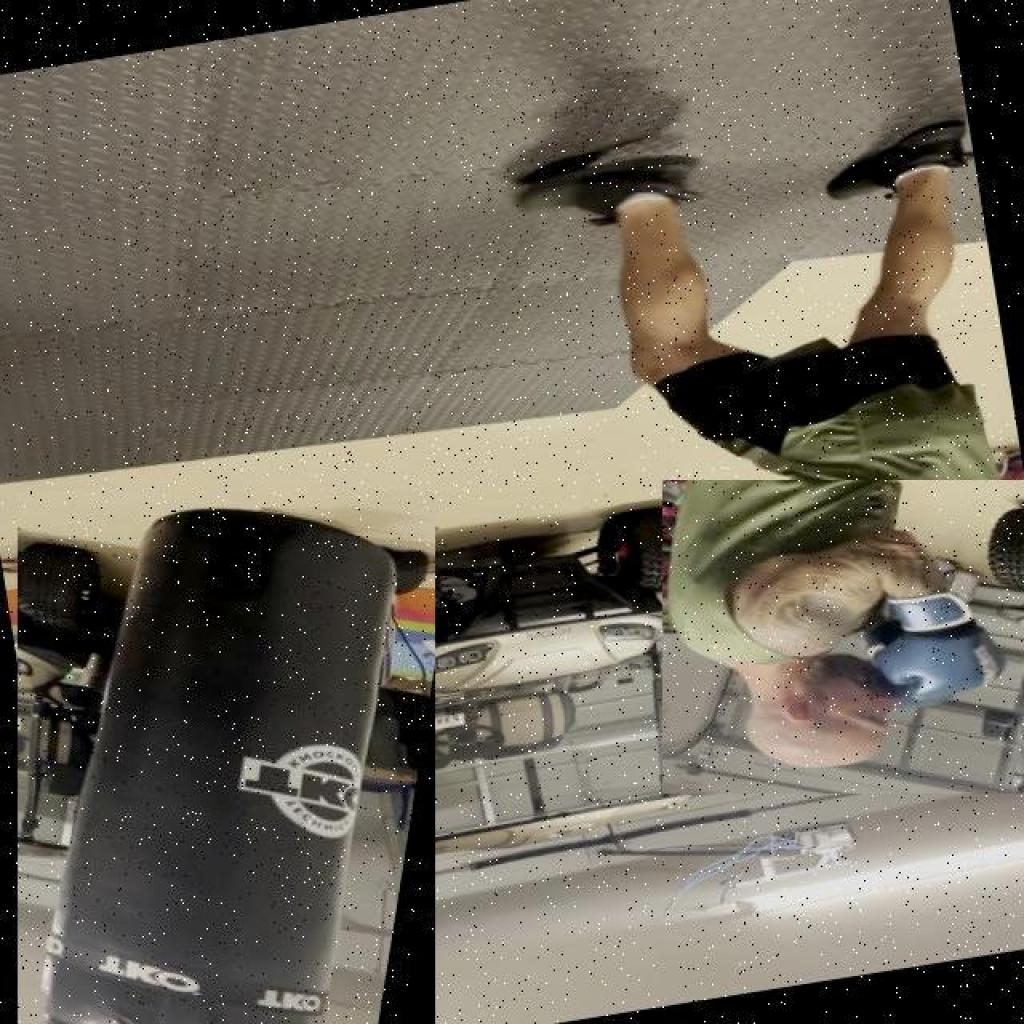bag: (18, 491, 435, 1024)
no punch: (662, 480, 1024, 793)
